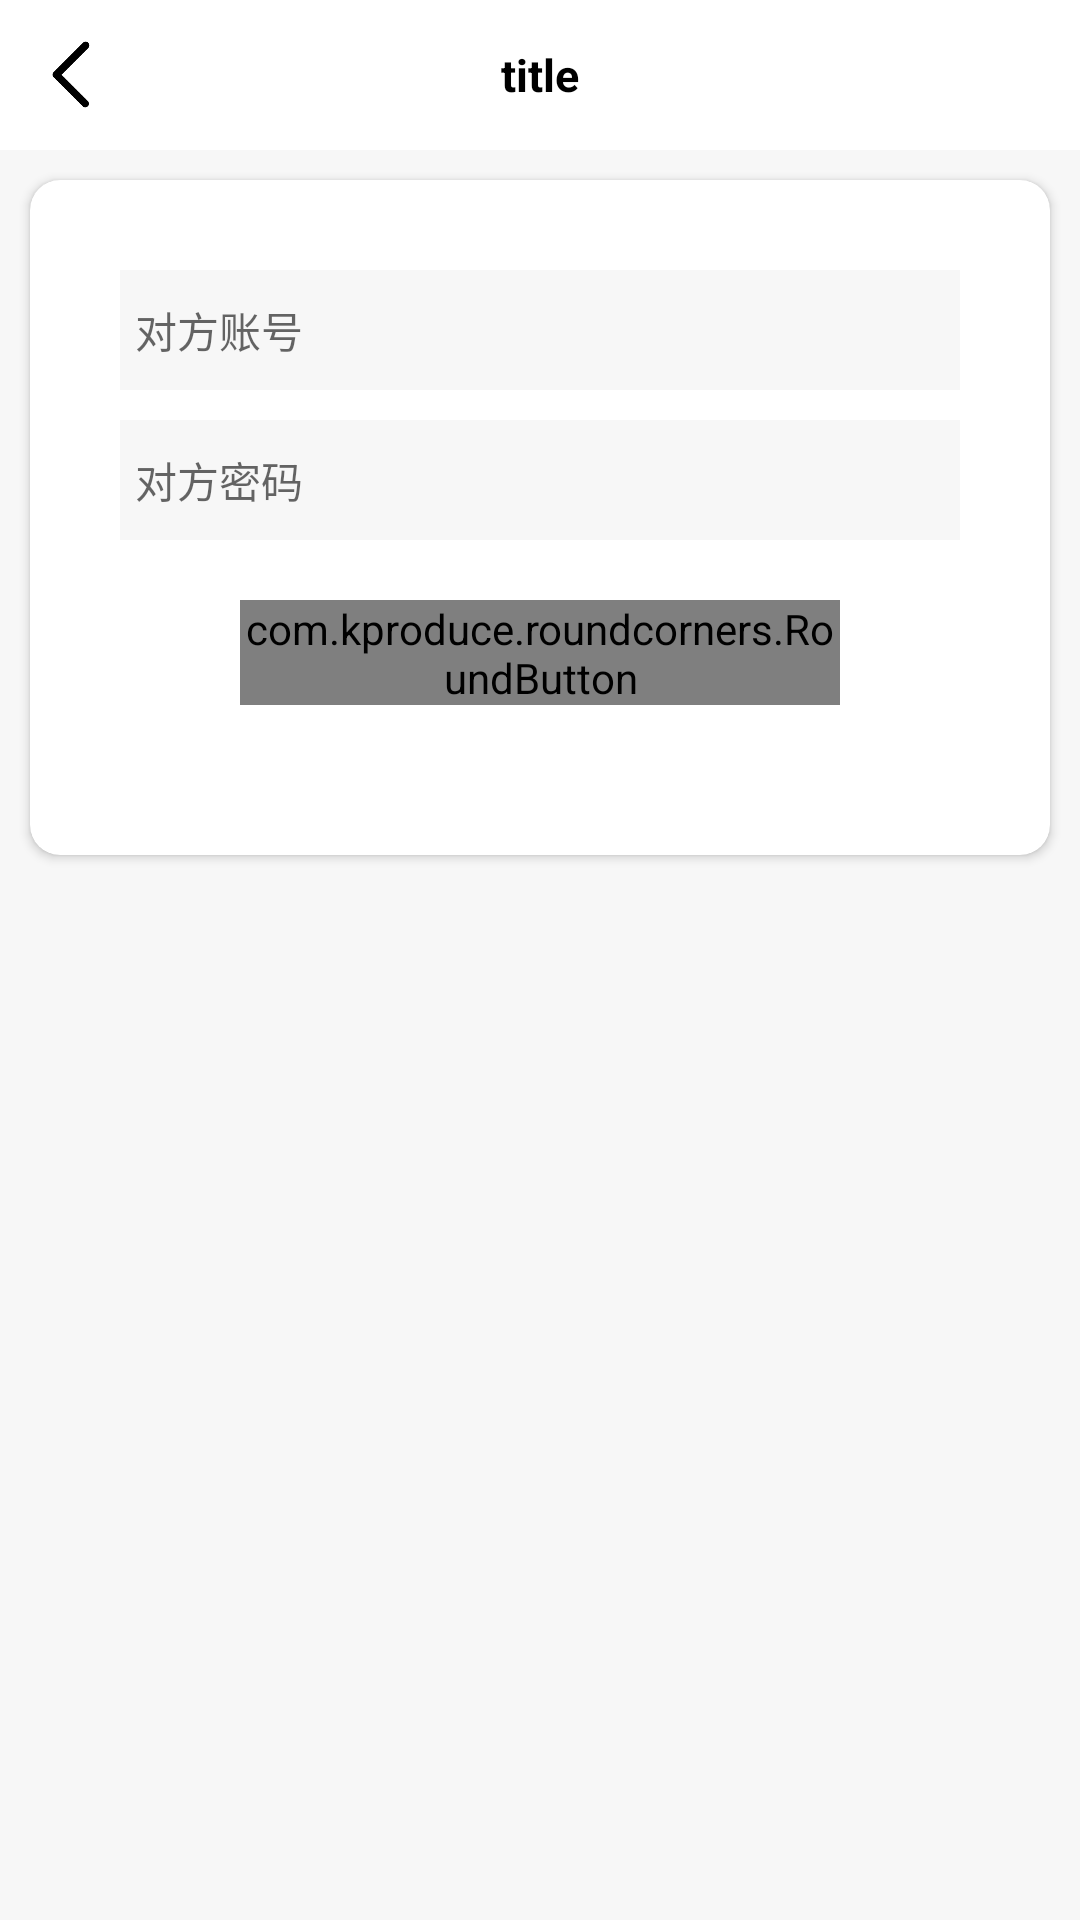

Where icons sit on this 1080px x 1920px app screen, as (left=x1, top=y1, right=x2, bottom=y2):
arrow left: (left=52, top=41, right=90, bottom=108)
